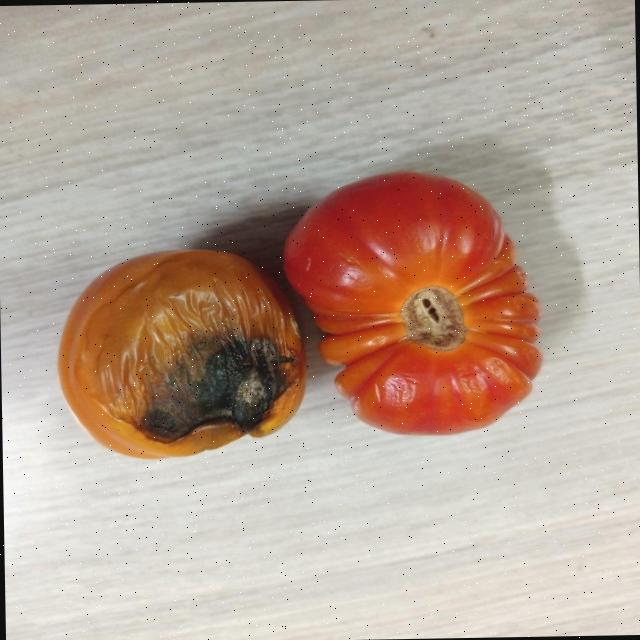Rotten: (57, 250, 310, 464)
